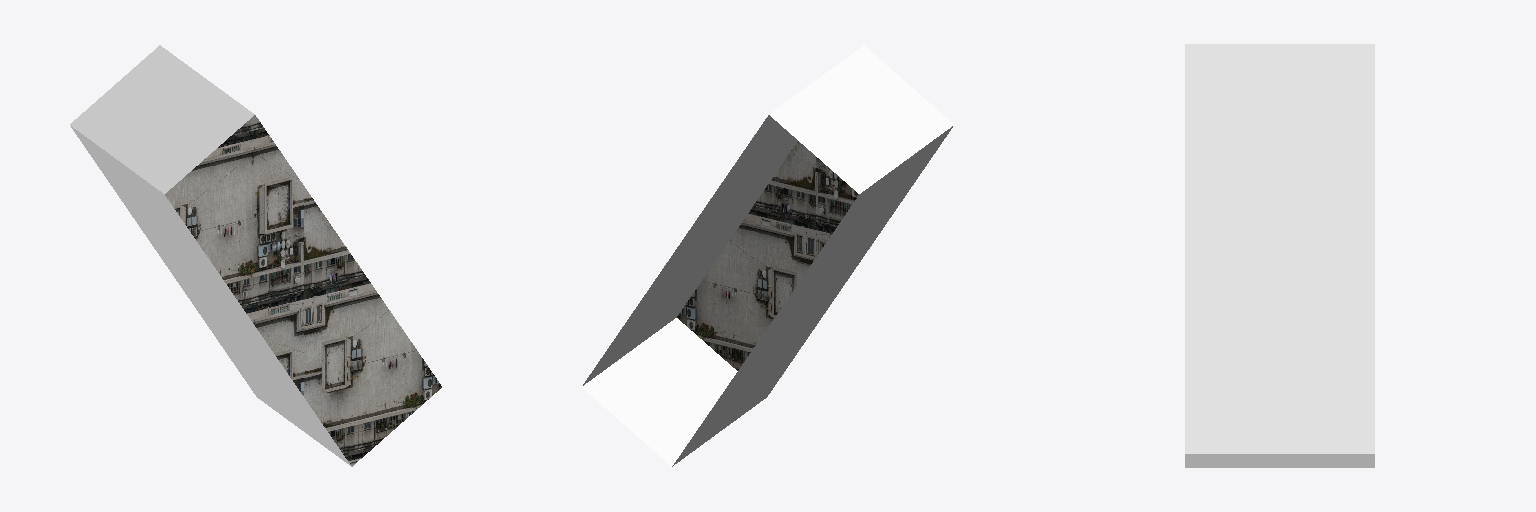
The picture shows the model from 3 angles: view 1: azimuth 30°, elevation 25°; view 2: azimuth 150°, elevation 25°; view 3: azimuth 270°, elevation 25°; orthographic projection.
Parts seen in each view (by area): view 1: Building; view 2: Building; view 3: Building.
Boxes of the visible parts, <box> form: Building: <box>70,45,441,466</box>; Building: <box>582,45,953,466</box>; Building: <box>1185,44,1374,467</box>.
Size of the model in its own units: 10.11 by 13.07 by 6.
2 materials, 1 textured.